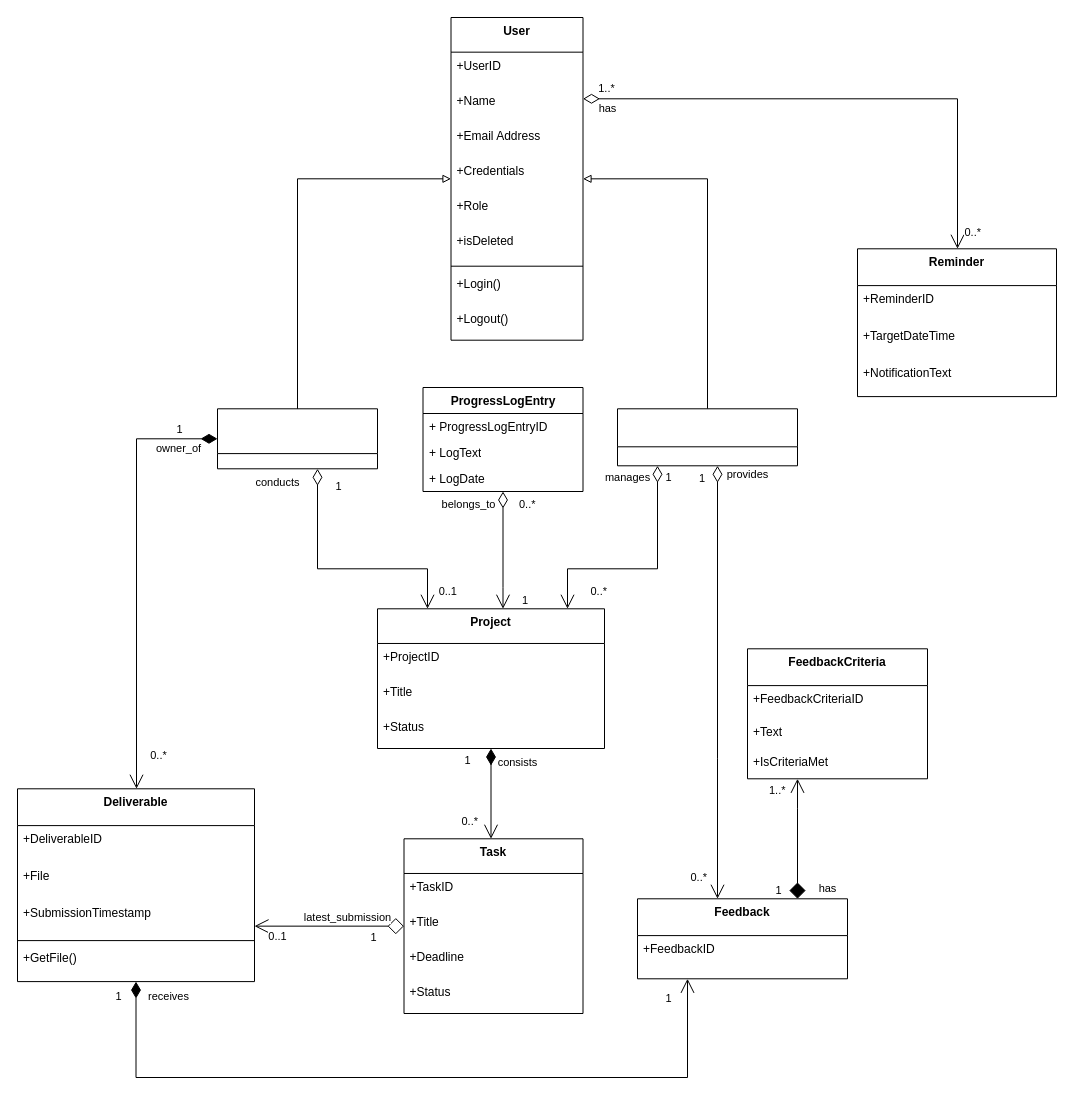
This 1074x1112 diagram has some shape labels left out. The centre of each missing label's shape, as x and y in pixels:
"Student" belongs at (x=297, y=438).
"Supervisor" belongs at (x=707, y=437).
